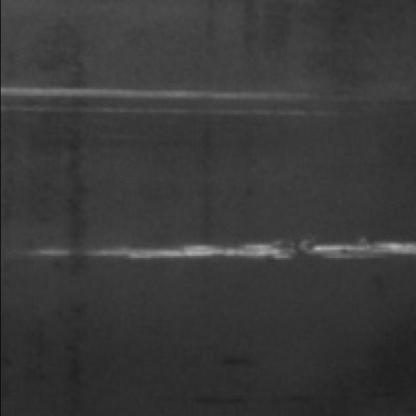scratches: (25, 242, 408, 274), (0, 87, 318, 122)
